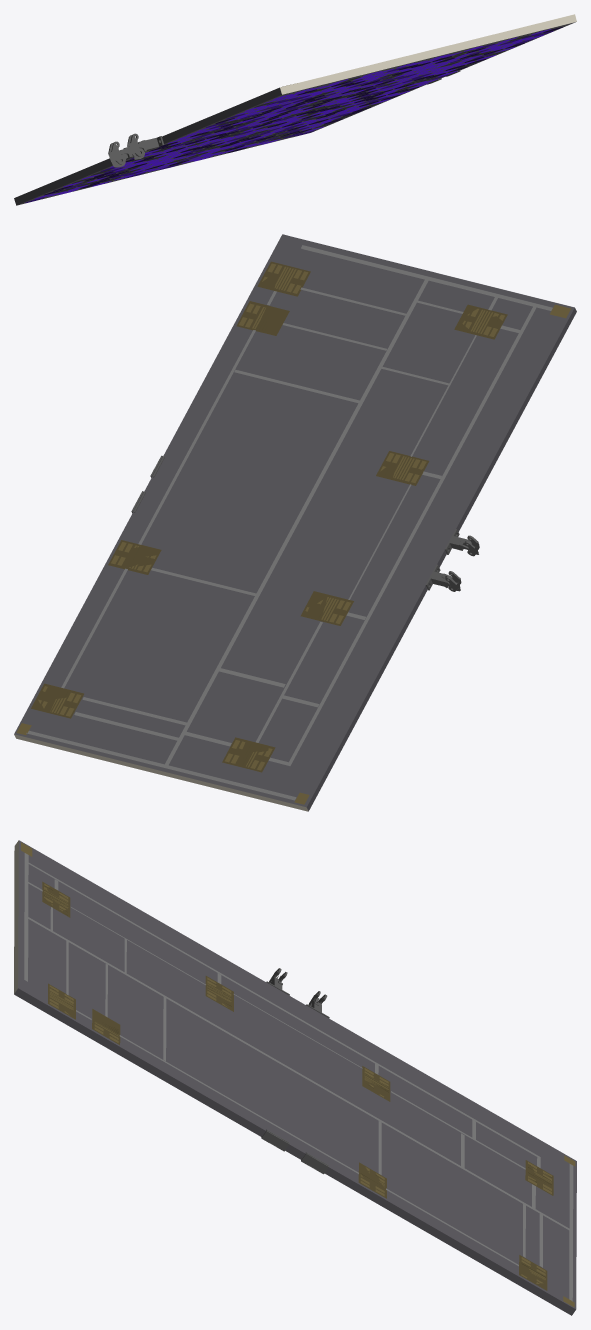
The model's file is Panel_derecha1.obj.
The picture shows the model from 3 angles, top to bottom: view 1: azimuth 30°, elevation 25°; view 2: azimuth 150°, elevation 25°; view 3: azimuth 270°, elevation 25°; orthographic projection. The views are drawn at different scales.
Visible parts, largest first — view 1: Panel_derecha_1_cal_solar_back, Panel_derecha_1_cal_solar_1, Panel_derecha_1_cal_solar_side, Panel_derecha_1_cal_solar_4, Panel_derecha_1_cal_solar_2, Panel_derecha_1_cal_solar_3, Panel_derecha_1_cal_solar_6, Panel_derecha_1_cal_solar_5, Panel_derecha_1_cal_solar_7, Panel_derecha_1_cal_grey; view 2: Panel_derecha_1_cal_solar_back, Panel_derecha_1_cal_silver, Panel_derecha_1_cal_brown, Panel_derecha_1_cal_bronze, Panel_derecha_1_cal_solar_side, Panel_derecha_1_cal_grey; view 3: Panel_derecha_1_cal_solar_back, Panel_derecha_1_cal_silver, Panel_derecha_1_cal_brown, Panel_derecha_1_cal_bronze, Panel_derecha_1_cal_grey, Panel_derecha_1_cal_solar_side.
Part boxes in pixels (x1,y1,x2,y2): Panel_derecha_1_cal_solar_back: (14,22,575,205); Panel_derecha_1_cal_solar_1: (34,35,543,199); Panel_derecha_1_cal_solar_side: (280,14,576,94); Panel_derecha_1_cal_solar_4: (25,31,553,203); Panel_derecha_1_cal_solar_2: (81,29,550,179); Panel_derecha_1_cal_solar_3: (47,37,531,196); Panel_derecha_1_cal_solar_6: (56,35,528,192); Panel_derecha_1_cal_solar_5: (44,27,562,195); Panel_derecha_1_cal_solar_7: (53,49,502,191); Panel_derecha_1_cal_grey: (108,71,460,167); Panel_derecha_1_cal_solar_back: (14,234,576,811); Panel_derecha_1_cal_silver: (26,245,552,800); Panel_derecha_1_cal_brown: (31,261,507,772); Panel_derecha_1_cal_bronze: (16,263,571,804); Panel_derecha_1_cal_solar_side: (14,734,308,811); Panel_derecha_1_cal_grey: (131,455,479,591); Panel_derecha_1_cal_solar_back: (14,840,576,1315); Panel_derecha_1_cal_silver: (24,853,573,1301); Panel_derecha_1_cal_brown: (42,881,553,1290); Panel_derecha_1_cal_bronze: (21,842,575,1307); Panel_derecha_1_cal_grey: (261,968,329,1174); Panel_derecha_1_cal_solar_side: (14,840,18,993).
Size of the model in its own units: 8.83 by 8.16 by 12.7.
